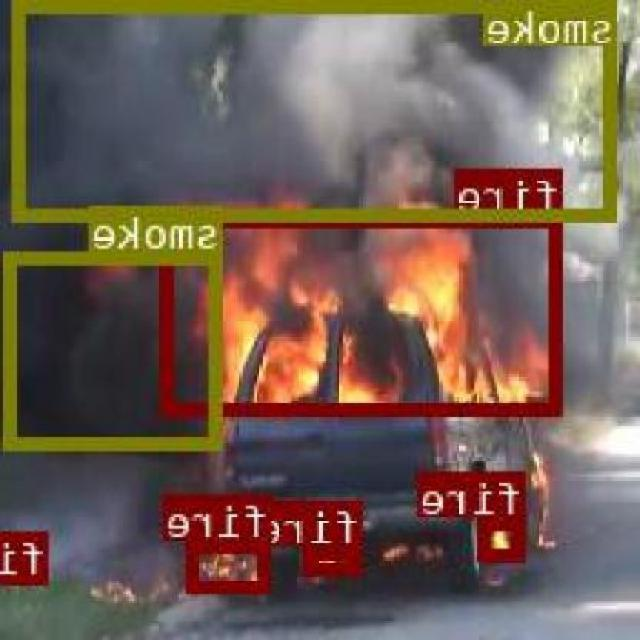Fire: (164, 213, 564, 413), (190, 539, 272, 592), (482, 516, 526, 559)
Smoke: (14, 0, 617, 220), (7, 250, 224, 448)
